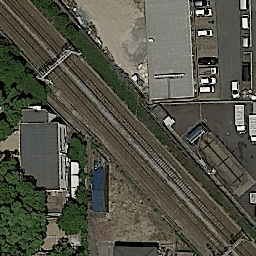car: (233, 102, 248, 134), (248, 112, 256, 145), (230, 79, 241, 101), (241, 61, 251, 82), (196, 27, 214, 38), (197, 56, 219, 65), (194, 8, 213, 18), (198, 66, 219, 75), (200, 76, 218, 86), (240, 14, 251, 30), (197, 85, 215, 94), (241, 33, 250, 49), (193, 1, 211, 8), (238, 1, 249, 11)
